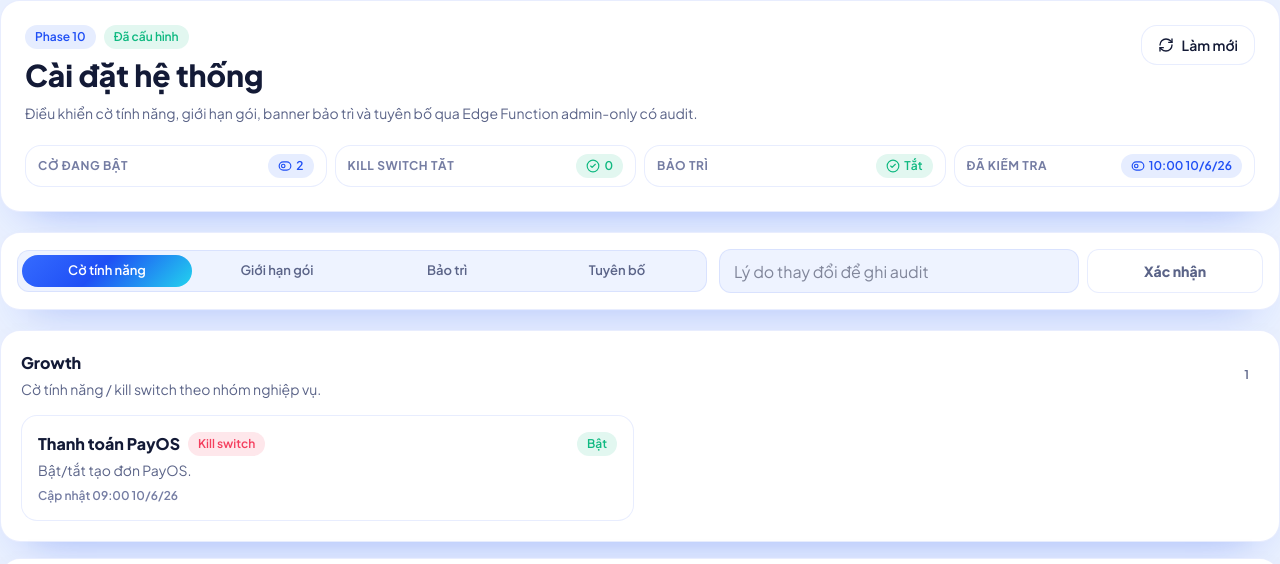
ConsoleConfigPage › renders feature flags, limits, maintenance, and disclaimer sections
Click the button "Giới hạn gói" at (277, 271), box [192, 255, 362, 287]
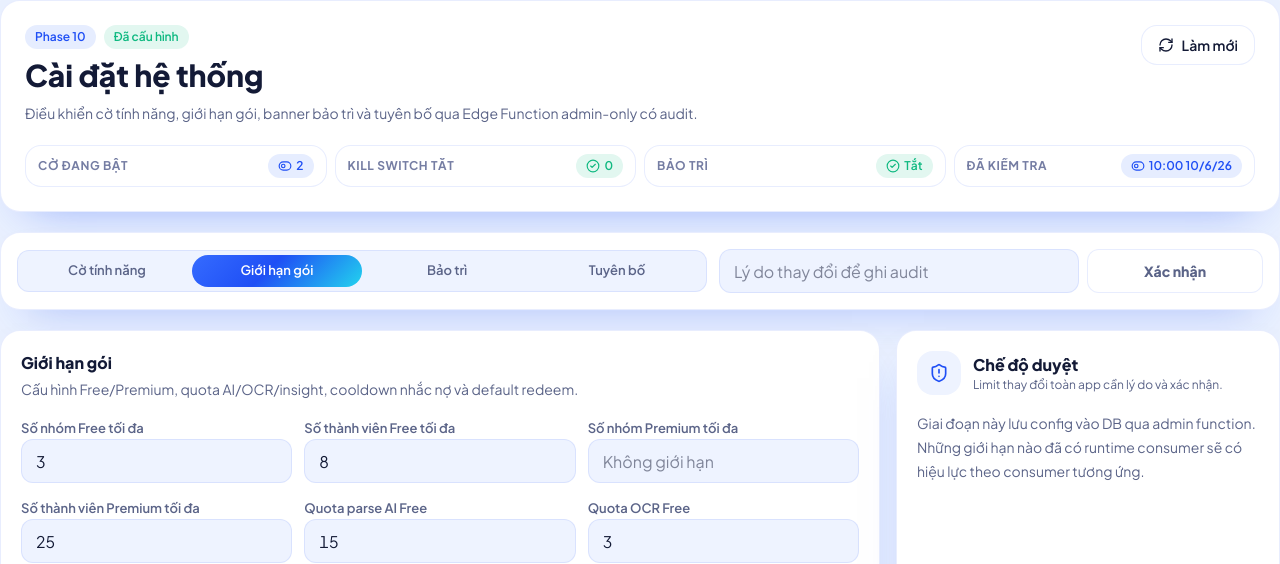
Check: the text "giới hạn gói" is shown, box [25, 104, 698, 122]
Click the button "Bảo trì" at (447, 271), box [362, 255, 532, 287]
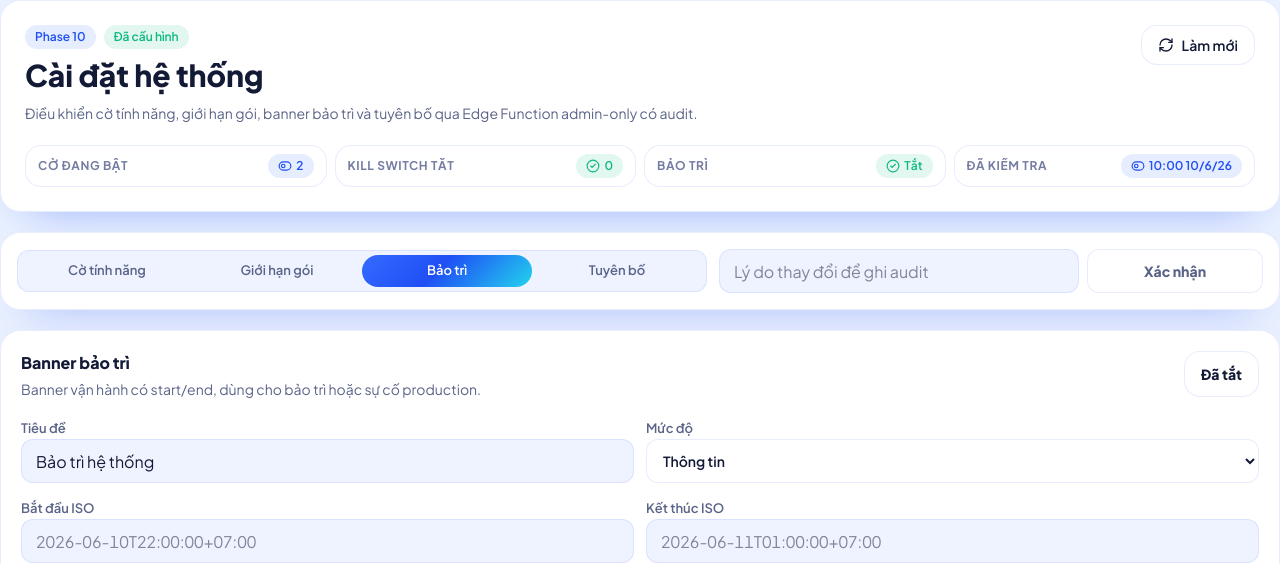
Check: the text "banner bảo trì" is shown, box [25, 104, 698, 122]
Click the button "Tuyên bố" at (617, 271), box [532, 255, 702, 287]
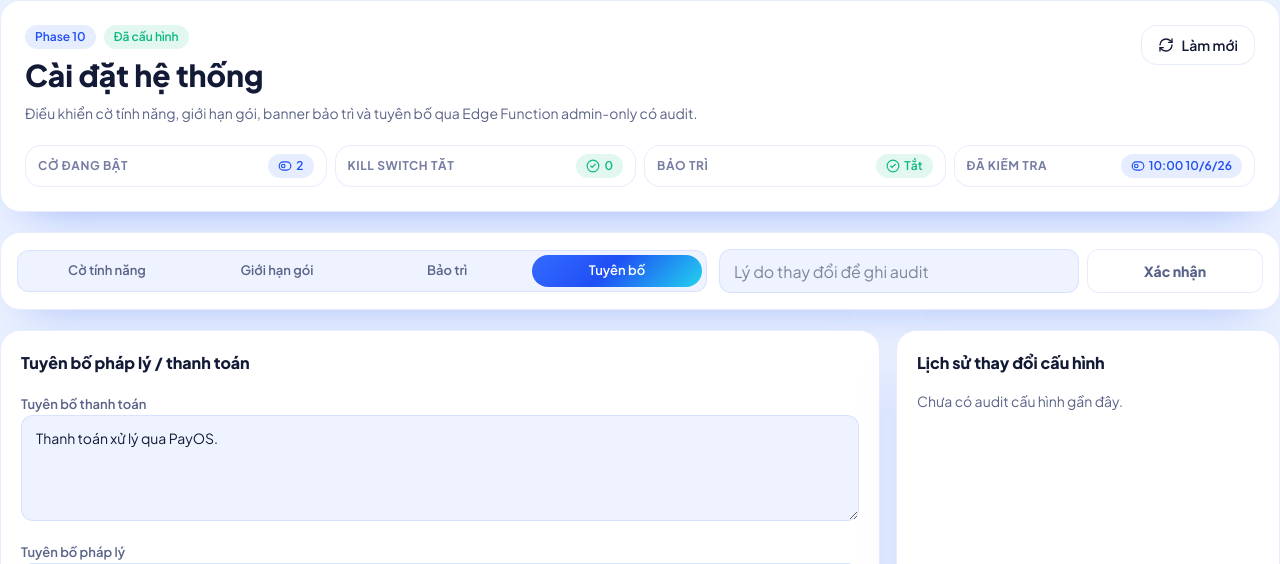
Check: the text "Tuyên bố pháp lý / thanh toán" is shown, box [21, 352, 250, 373]
